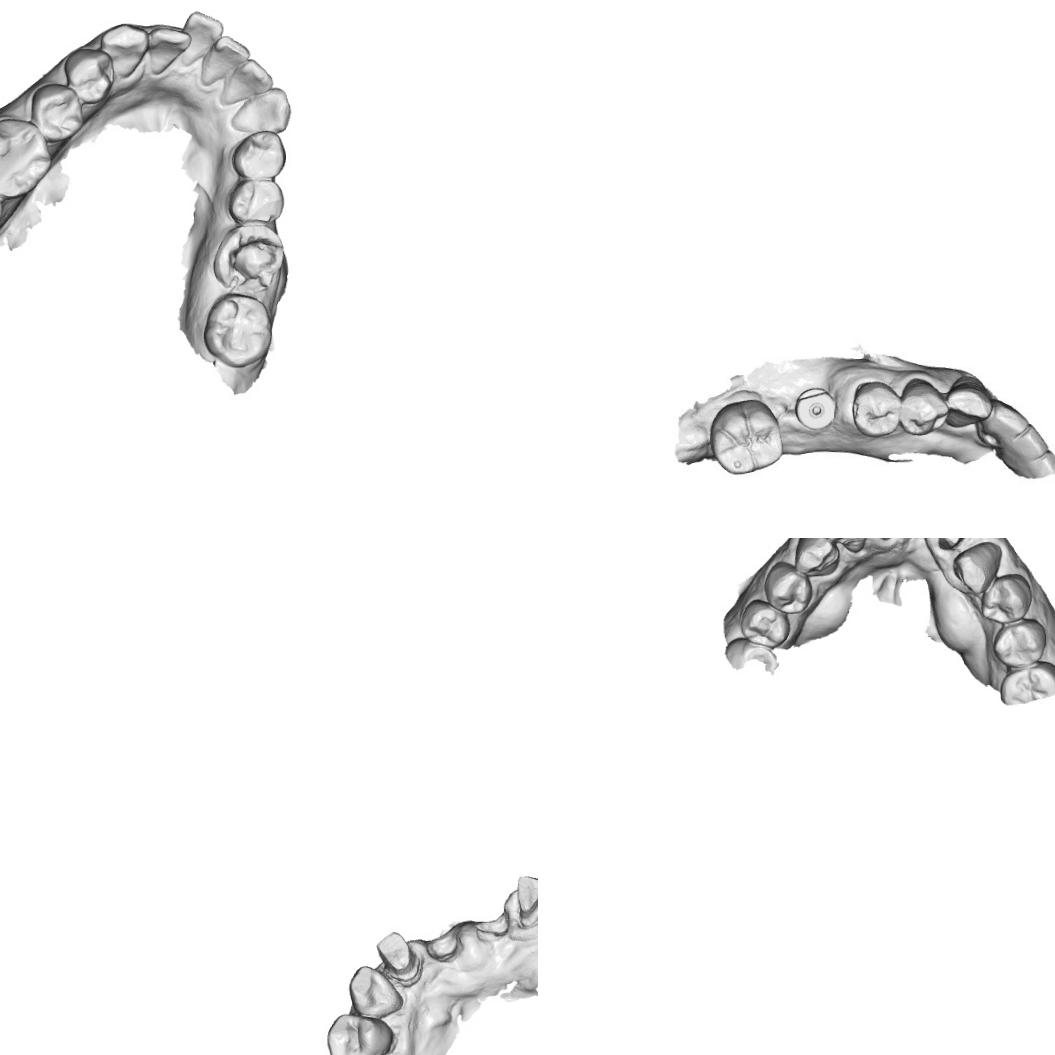canine: (346, 962, 407, 1023), (98, 18, 152, 82), (229, 85, 294, 138), (950, 540, 1005, 598), (948, 377, 992, 433), (790, 538, 841, 579)
crown: (372, 928, 423, 984), (512, 869, 538, 930), (933, 538, 969, 553)
implant: (796, 384, 836, 432)
incisor: (197, 33, 253, 88), (215, 57, 276, 106), (145, 17, 192, 80), (182, 9, 225, 74), (979, 398, 1025, 446), (1008, 419, 1050, 465), (823, 538, 871, 556)
molar: (208, 219, 290, 300), (708, 396, 786, 478), (200, 292, 275, 370), (0, 114, 55, 203), (997, 658, 1055, 702)
premolar: (227, 128, 297, 196), (26, 80, 86, 144), (224, 176, 290, 233), (60, 44, 118, 108), (976, 570, 1035, 627), (323, 1010, 397, 1055), (735, 596, 793, 652), (989, 616, 1048, 670), (760, 559, 814, 616), (852, 379, 898, 439), (898, 378, 946, 434)
